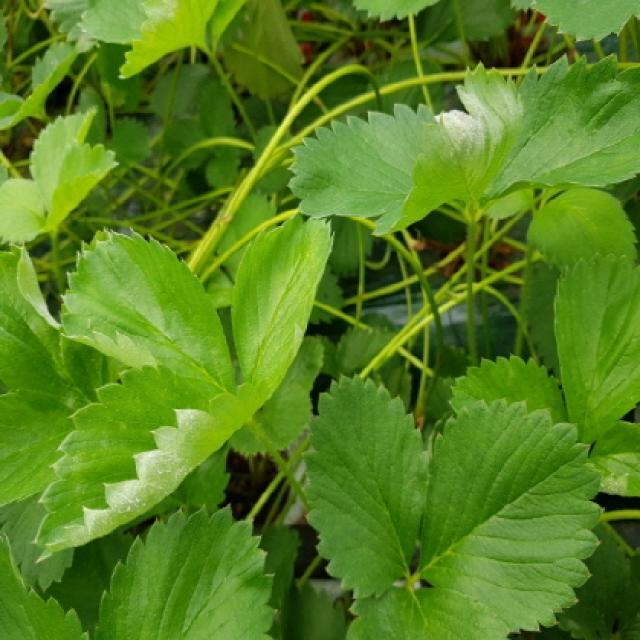powdery_mildew_leaf: (33, 365, 251, 565), (285, 60, 526, 237)
